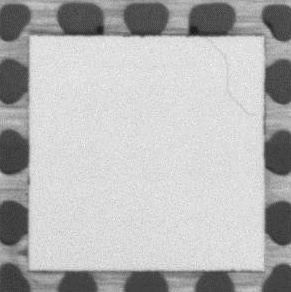DIE_CRACK: (204, 37, 258, 118)
